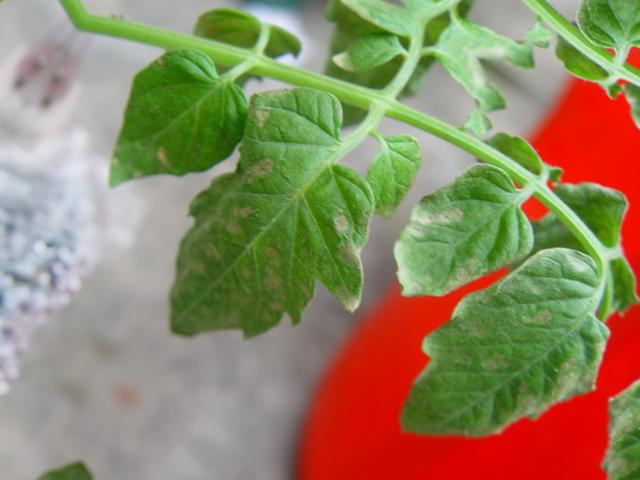Tomato mold leaf: (97, 57, 442, 422), (362, 204, 640, 480), (66, 28, 271, 240), (363, 143, 556, 348)
